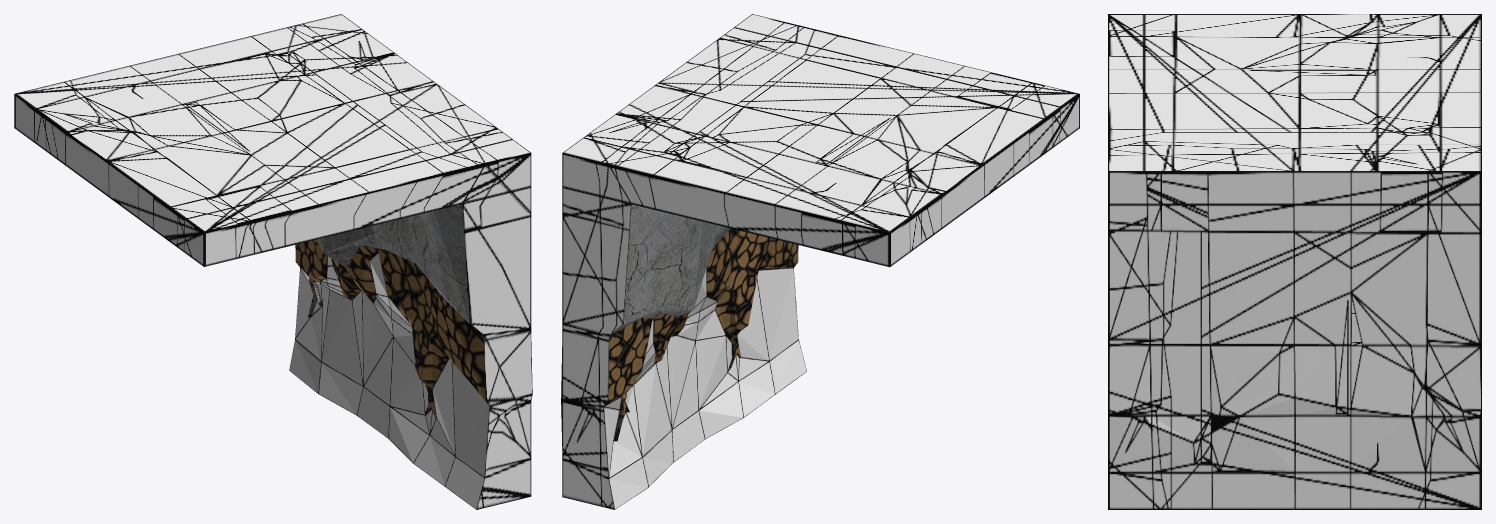
File: EspacioPirateriaParedInteriorAltoNS.gltf
The picture shows the model from 3 angles, left to right: view 1: azimuth 30°, elevation 25°; view 2: azimuth 150°, elevation 25°; view 3: azimuth 270°, elevation 25°; orthographic projection.
Visible parts, largest first — view 1: Cubo.18; view 2: Cubo.18; view 3: Cubo.18.
Part boxes in pixels (x1,y1,x2,y2): Cubo.18: (14,14,532,509); Cubo.18: (561,14,1079,509); Cubo.18: (1108,14,1481,509).
Bounding box in the file's own units: 2 × 2 × 2.
1 material, 1 textured.
